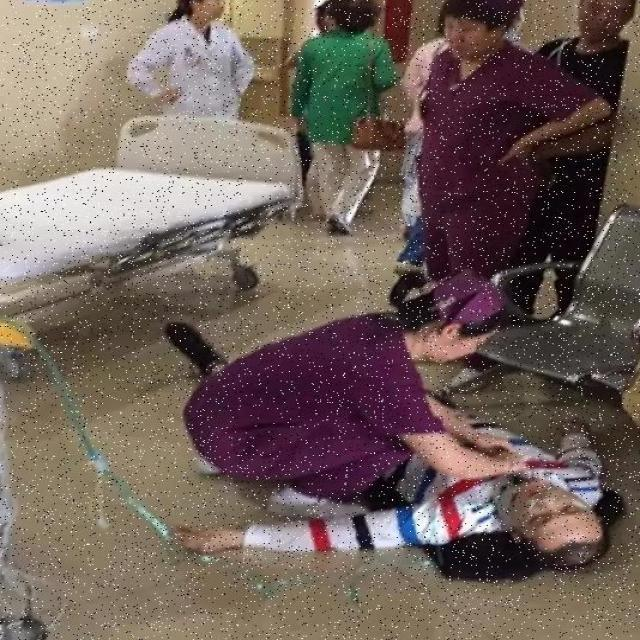fall: (254, 399, 617, 571)
